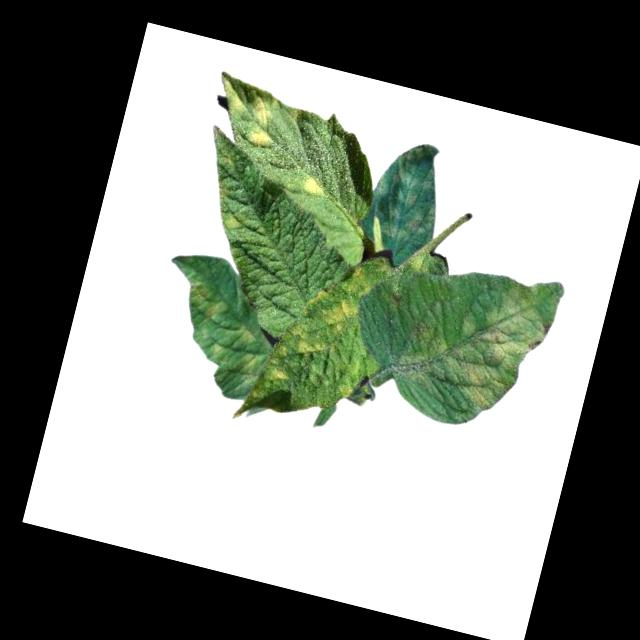Leaf_Mold: (391, 253, 557, 422), (164, 273, 278, 393), (359, 131, 458, 247), (207, 72, 288, 150), (300, 284, 362, 337), (283, 321, 335, 360), (298, 172, 331, 203), (219, 208, 249, 241), (264, 362, 294, 387)
